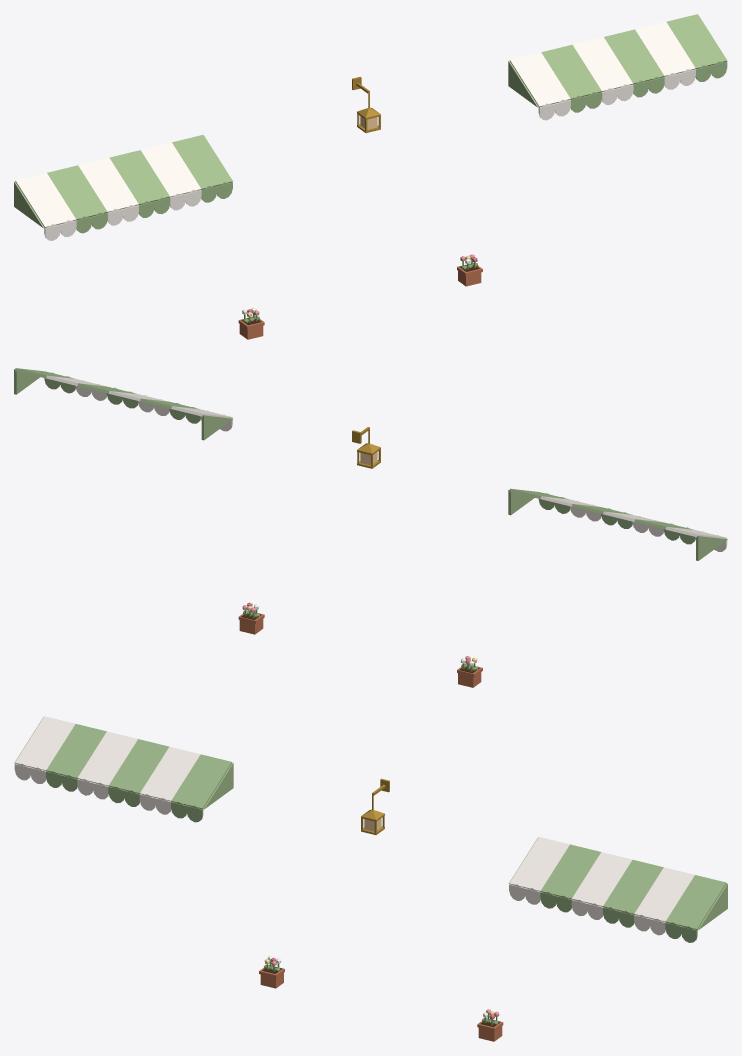
Rendered from CatCafe_Plot_ThemeGarden.glb.
The picture shows the model from 3 angles, top to bottom: view 1: azimuth 30°, elevation 25°; view 2: azimuth 150°, elevation 25°; view 3: azimuth 330°, elevation 25°; orthographic projection.
Visible parts, largest first — view 1: CatCafe_Plot_ThemeGarden_Awning, CatCafe_Plot_ThemeGarden; view 2: CatCafe_Plot_ThemeGarden_Awning, CatCafe_Plot_ThemeGarden; view 3: CatCafe_Plot_ThemeGarden_Awning, CatCafe_Plot_ThemeGarden.
Part boxes in pixels (left/top/right/bottom): CatCafe_Plot_ThemeGarden_Awning: left=14, top=14, right=727, bottom=240; CatCafe_Plot_ThemeGarden: left=238, top=76, right=482, bottom=339; CatCafe_Plot_ThemeGarden_Awning: left=14, top=368, right=727, bottom=560; CatCafe_Plot_ThemeGarden: left=238, top=427, right=482, bottom=687; CatCafe_Plot_ThemeGarden_Awning: left=14, top=716, right=727, bottom=942; CatCafe_Plot_ThemeGarden: left=259, top=778, right=503, bottom=1041.
Size of the model in its own units: 40.15 by 12.75 by 3.09.
Materials: 1 (1 with a texture image).
